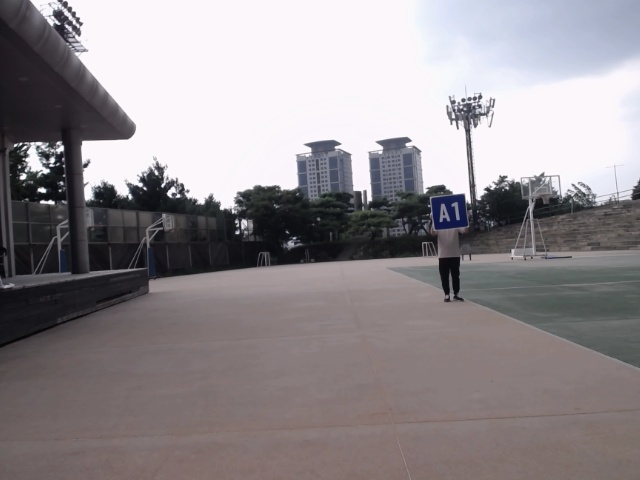delivery_a1: (431, 194, 469, 230)
